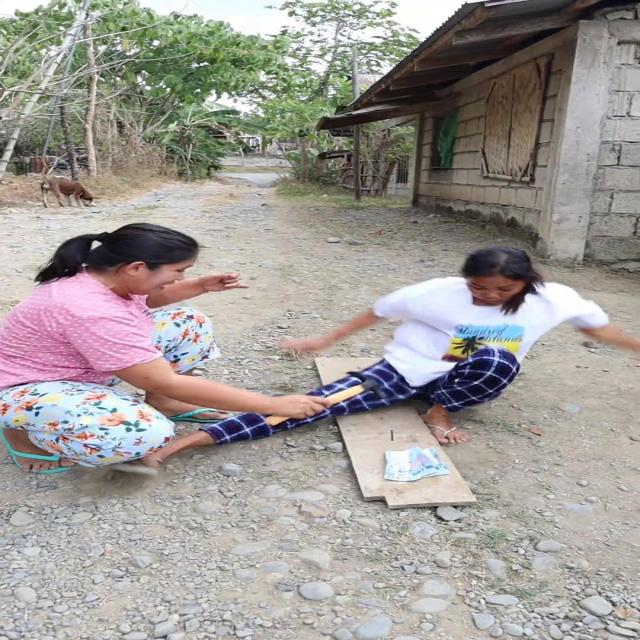hammer: (261, 370, 398, 429)
